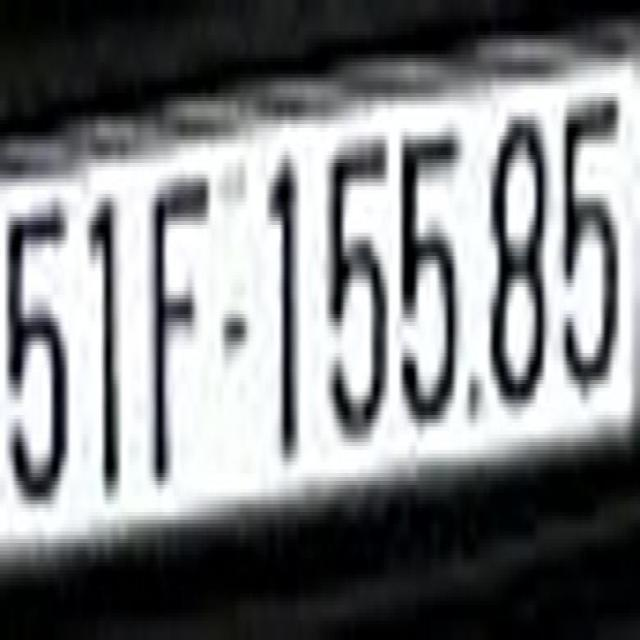1: (265, 147, 300, 450), (90, 190, 123, 497)
5: (2, 202, 68, 500), (562, 105, 622, 392), (402, 128, 459, 419), (336, 162, 388, 434)
8: (489, 108, 544, 412)
F: (148, 167, 212, 481)
